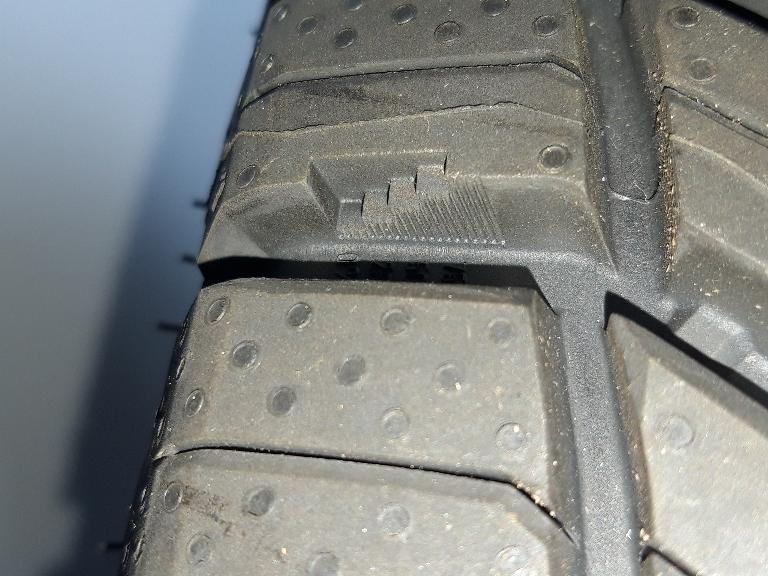temoin:100: (297, 145, 512, 253)
